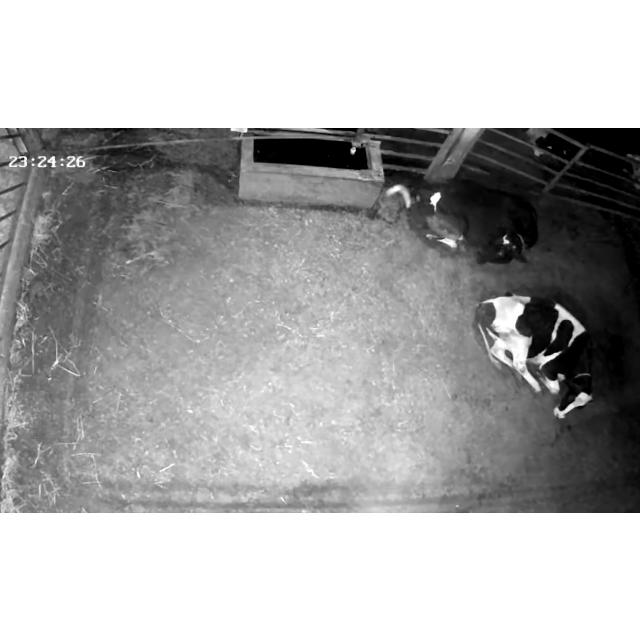lay: (468, 277, 612, 427), (398, 165, 548, 273)
